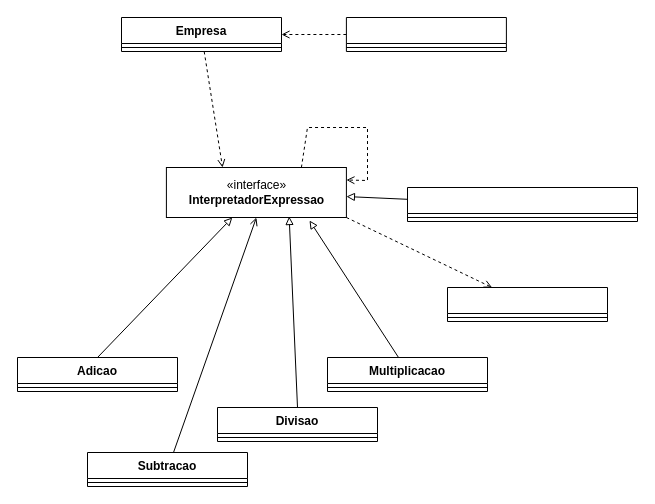
Image size: 655x504. Some labels were removed from this diagram. Each missing label, with the centre of its shape:
"Financeiro" belongs at pixel 425 34.
"InterpretadorExpressoesAritmeticas" belongs at pixel 522 204.
"Numero" belongs at pixel 527 304.
